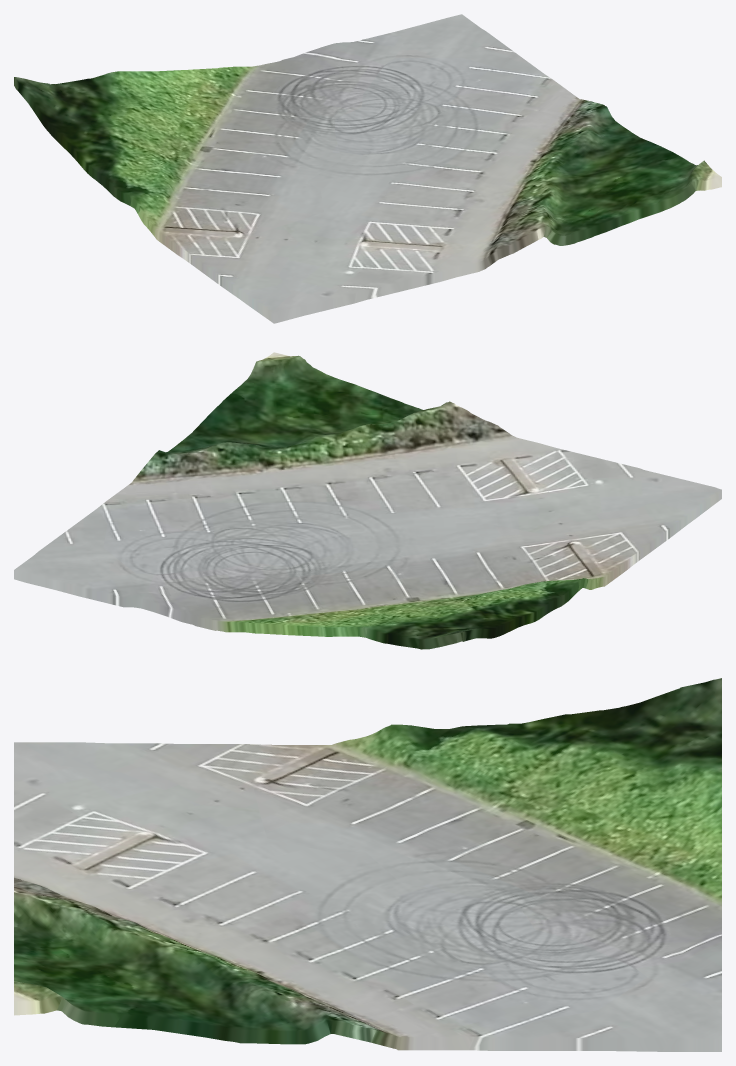
Rendered from z20-167567-405177-h0-yup-uvflip-v3-world.glb.
3 renders of one model, top to bottom at view 1: azimuth 30°, elevation 25°; view 2: azimuth 150°, elevation 25°; view 3: azimuth 270°, elevation 25°, orthographic. The views are drawn at different scales.
Size of the model in its own units: 30.16 by 3.76 by 30.32.
1 material, 1 textured.
